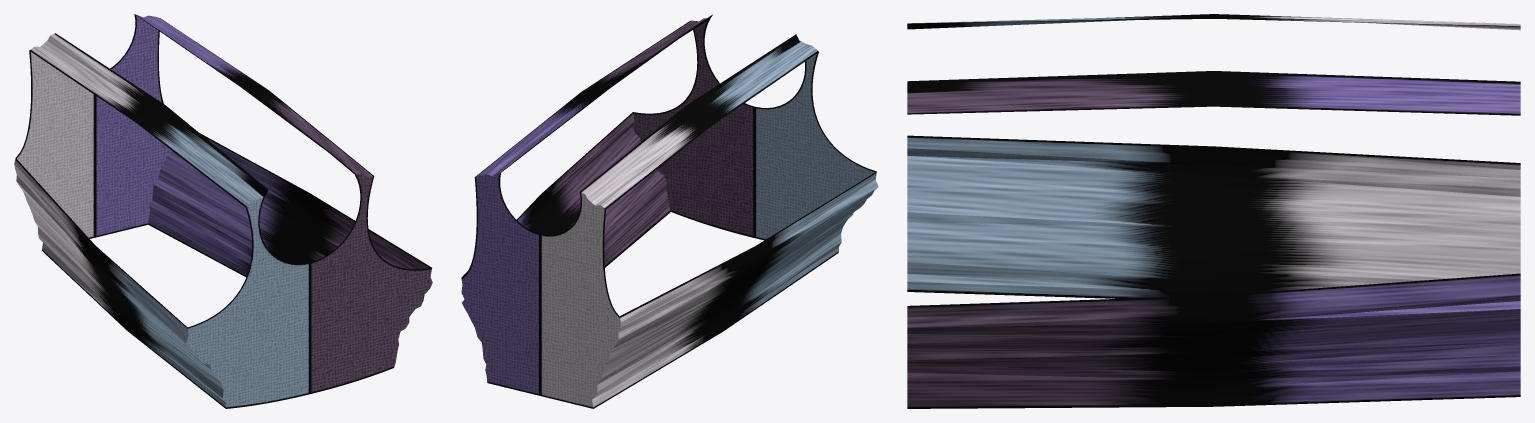
The model's file is tank_knit4_d25_boxmesh.obj.
The picture shows the model from 3 angles, left to right: view 1: azimuth 30°, elevation 25°; view 2: azimuth 150°, elevation 25°; view 3: azimuth 270°, elevation 25°; orthographic projection. The views are drawn at different scales.
Bounding box in the file's own units: 36.47 × 31.16 × 55.
1 material, 1 textured.
